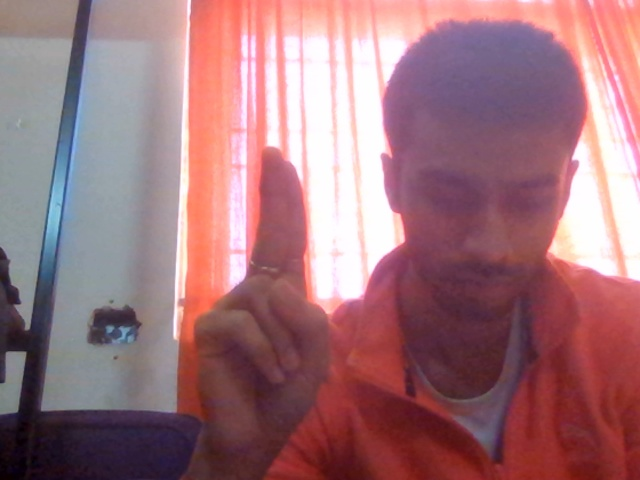U: (163, 113, 364, 480)
